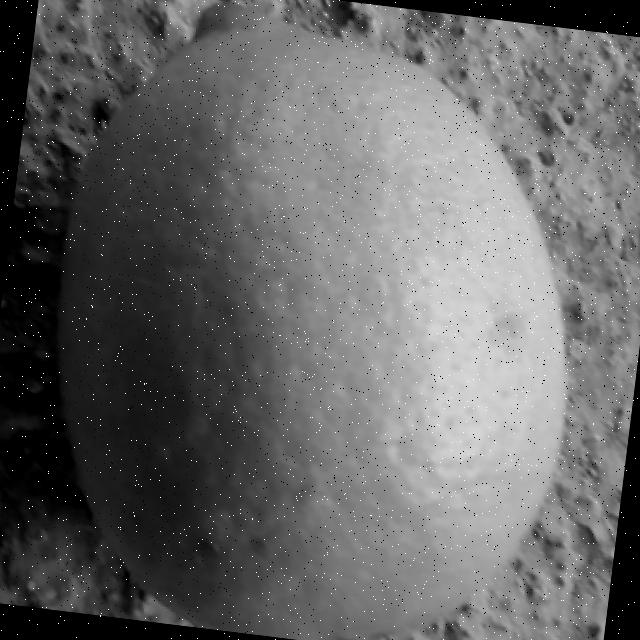Ripe: (11, 0, 620, 640)
